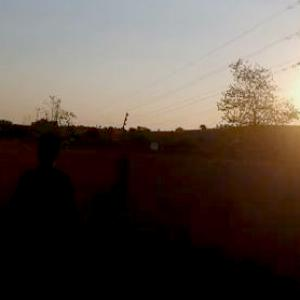follow: (8, 124, 85, 299)
